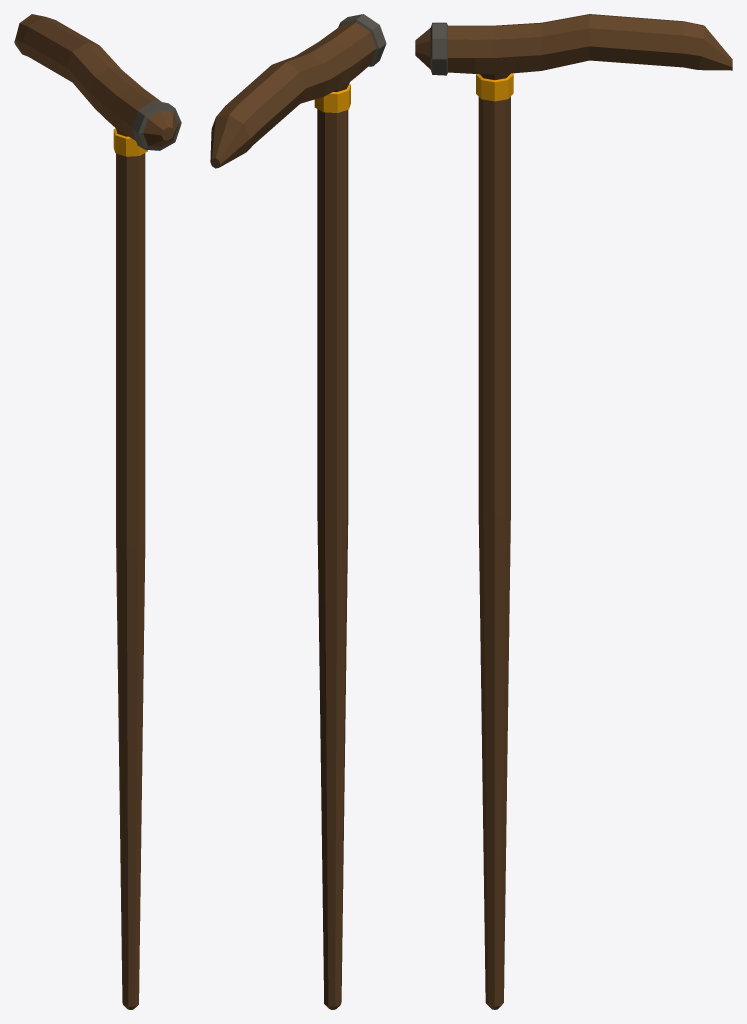
The model's file is Cane.fbx.
The picture shows the model from 3 angles, left to right: view 1: azimuth 30°, elevation 25°; view 2: azimuth 150°, elevation 25°; view 3: azimuth 270°, elevation 25°; orthographic projection. The views are drawn at different scales.
Parts seen in each view (by area): view 1: Cane; view 2: Cane; view 3: Cane.
Part boxes in pixels (x1,y1,x2,y2): Cane: (14, 14, 181, 1009); Cane: (210, 14, 386, 1009); Cane: (415, 14, 732, 1009).
Bounding box in the file's own units: 0.8599 × 17.63 × 5.11.
